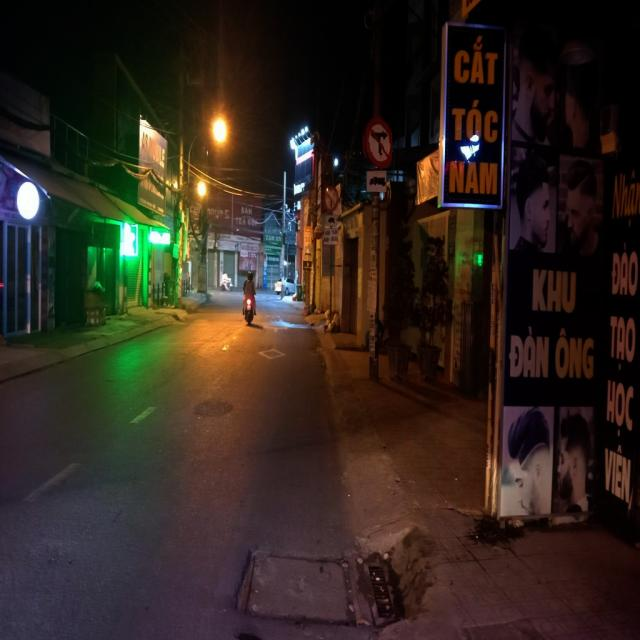cam_re_trai_va_phai: (362, 115, 392, 168), (324, 185, 339, 214)
object: (367, 171, 386, 192), (324, 229, 338, 244), (326, 216, 336, 226)
